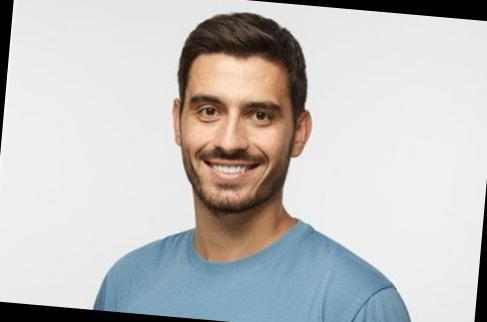Sober: (182, 55, 298, 199)
